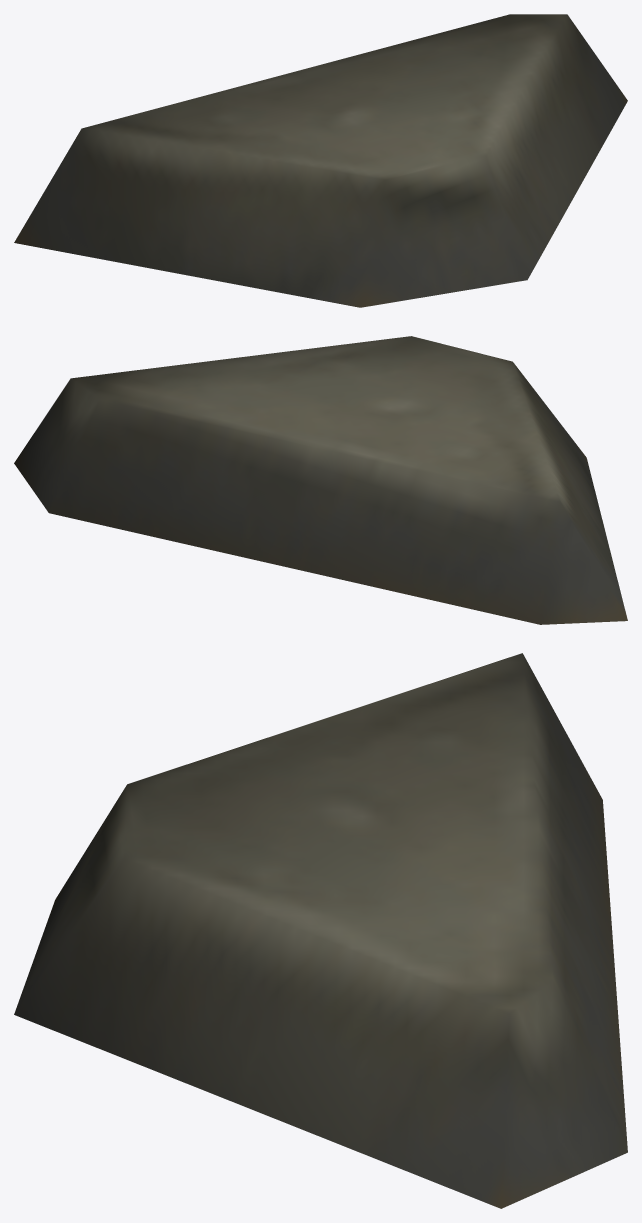
Rendered from sn_longmai_yuantai_007.FBX.
3 renders of one model, top to bottom at view 1: azimuth 30°, elevation 25°; view 2: azimuth 150°, elevation 25°; view 3: azimuth 270°, elevation 25°, orthographic. The views are drawn at different scales.
Visible parts, largest first — view 1: sn_longmai_yuantai_007; view 2: sn_longmai_yuantai_007; view 3: sn_longmai_yuantai_007.
Boxes of the visible parts, x1=… form: sn_longmai_yuantai_007: x1=14, y1=14, x2=627, y2=307; sn_longmai_yuantai_007: x1=14, y1=336, x2=627, y2=624; sn_longmai_yuantai_007: x1=14, y1=653, x2=627, y2=1208.
Size of the model in its own units: 120 by 18.75 by 68.76.
